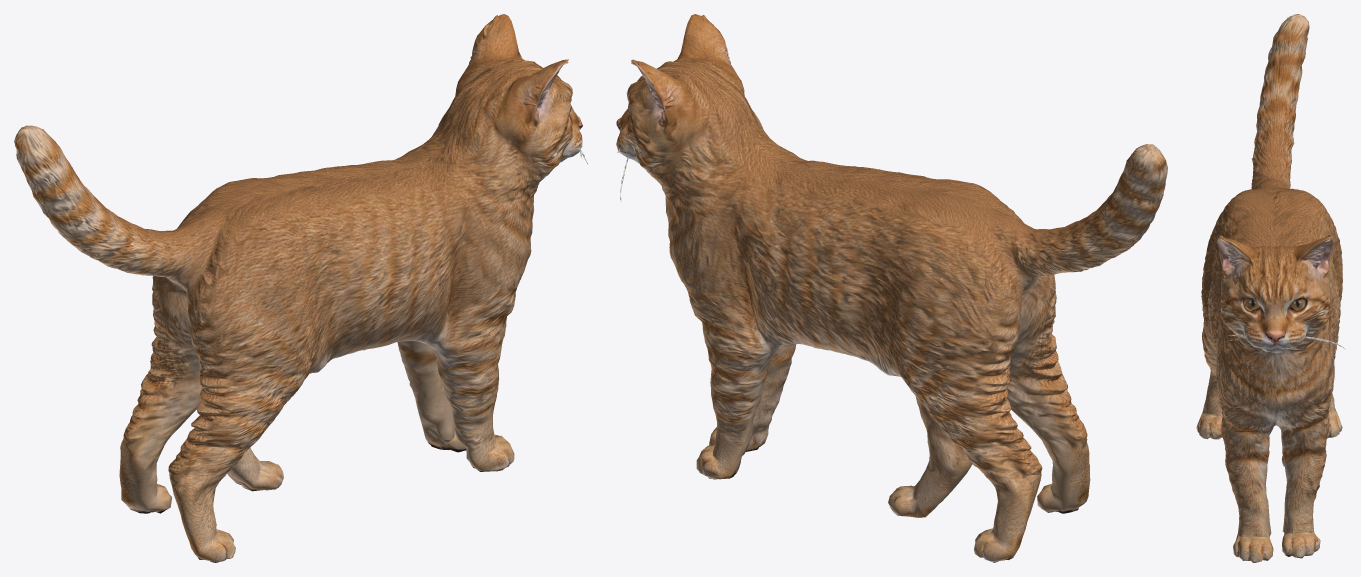
The model's file is DATASPOT.glb.
3 views of the same model, side by side, from view 1: azimuth 30°, elevation 25°; view 2: azimuth 150°, elevation 25°; view 3: azimuth 270°, elevation 25° (orthographic). The views are drawn at different scales.
Visible parts, largest first — view 1: tripo_node_dbebdf8a-fa45-489c-8c24-5569d175d4b4; view 2: tripo_node_dbebdf8a-fa45-489c-8c24-5569d175d4b4; view 3: tripo_node_dbebdf8a-fa45-489c-8c24-5569d175d4b4.
Boxes of the visible parts, x1,y1,x2,y2 form: tripo_node_dbebdf8a-fa45-489c-8c24-5569d175d4b4: (14,14,587,562); tripo_node_dbebdf8a-fa45-489c-8c24-5569d175d4b4: (616,14,1167,562); tripo_node_dbebdf8a-fa45-489c-8c24-5569d175d4b4: (1196,14,1345,562).
Size of the model in its own units: 1.35 by 0.9988 by 0.3747.
Materials: 1 (1 with a texture image).
